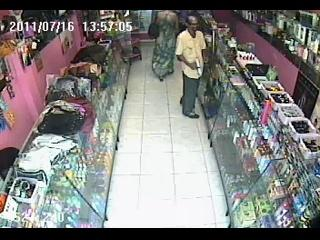Normal: (175, 15, 208, 120), (150, 10, 180, 80)
